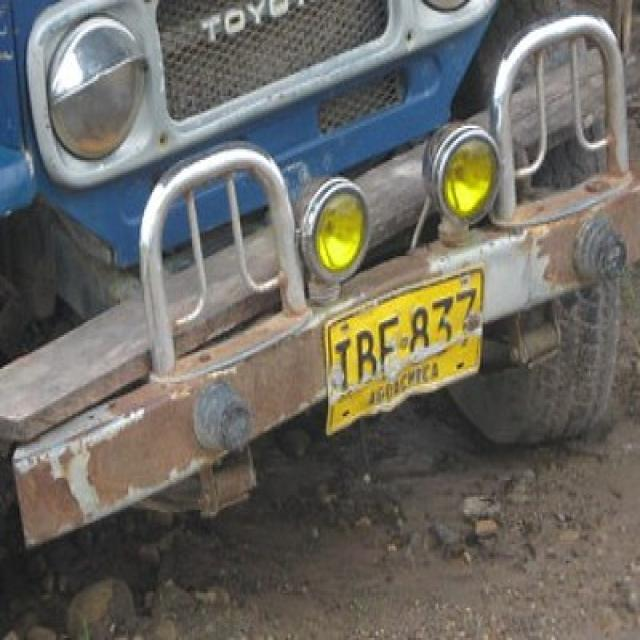placa_carro: (298, 258, 493, 452)
